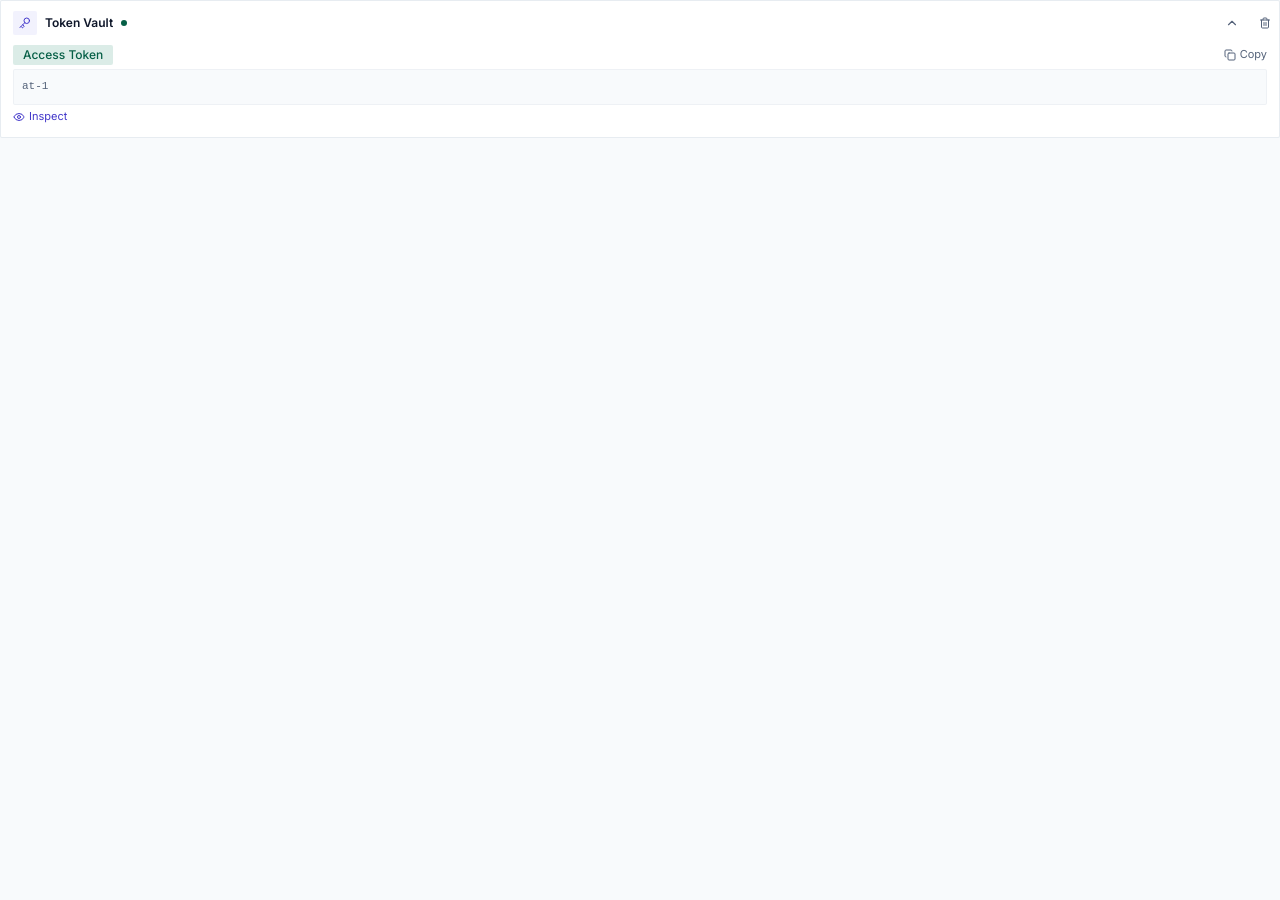
TokenVault — clearing the vault › actually clears the session once confirmed, closing the dialog and emptying the vault
Click the button named "Clear tokens": (1265, 23) [1251,1,1279,45]
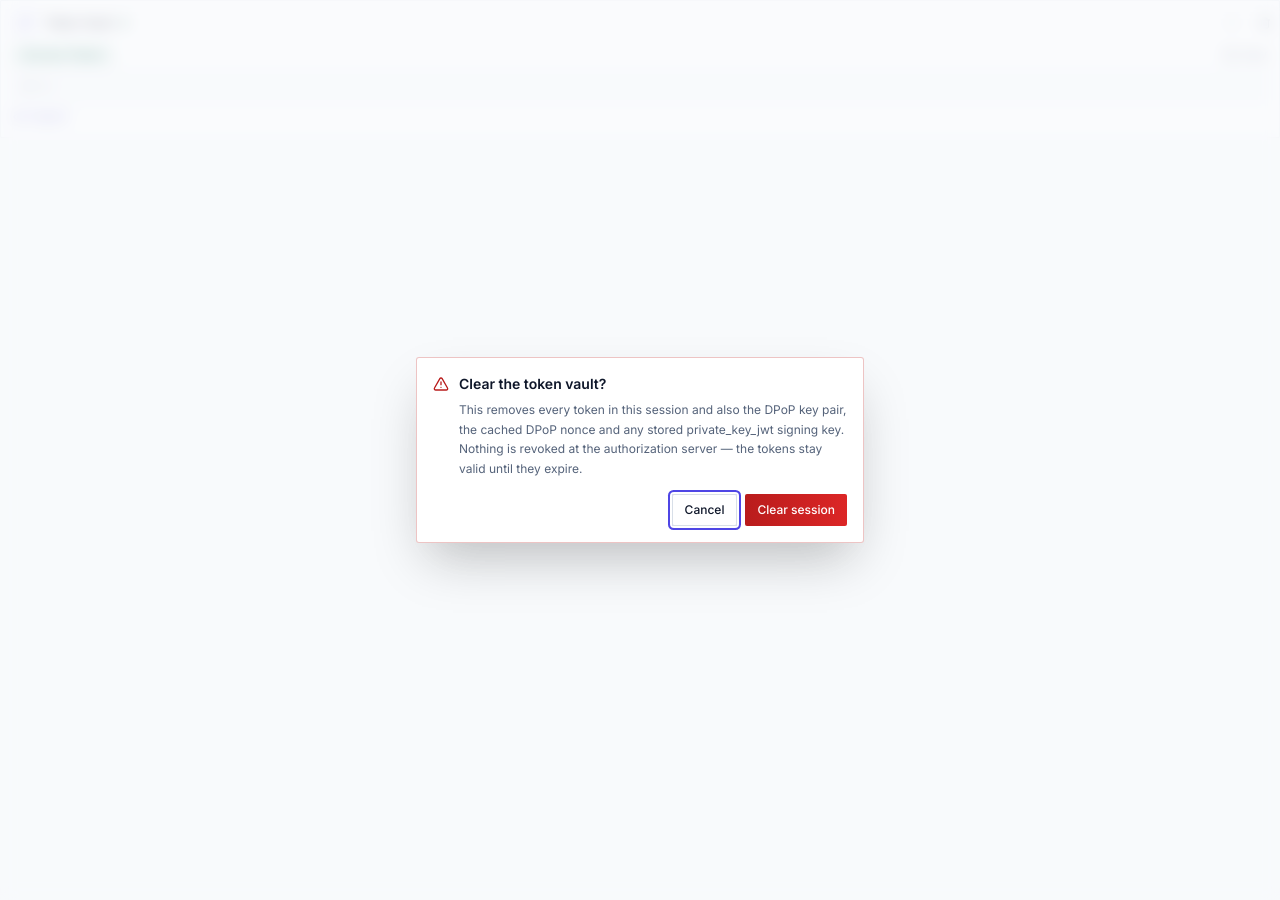
Click the button "Clear session": (796, 510) [745,494,847,526]
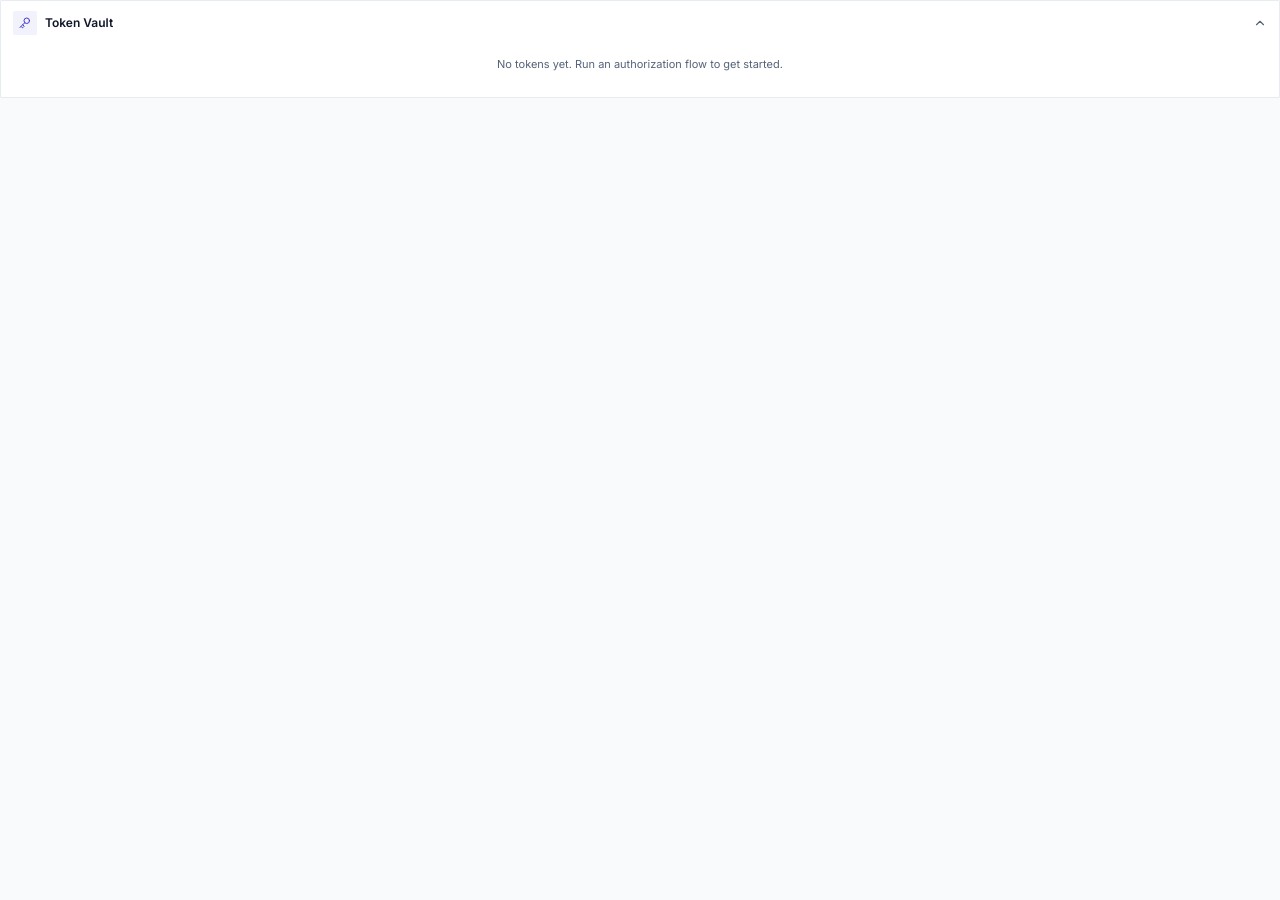
Now the dialog is gone
Now the text "No tokens yet. Run an authorization flow to get started." is shown, box [497,57,783,71]
